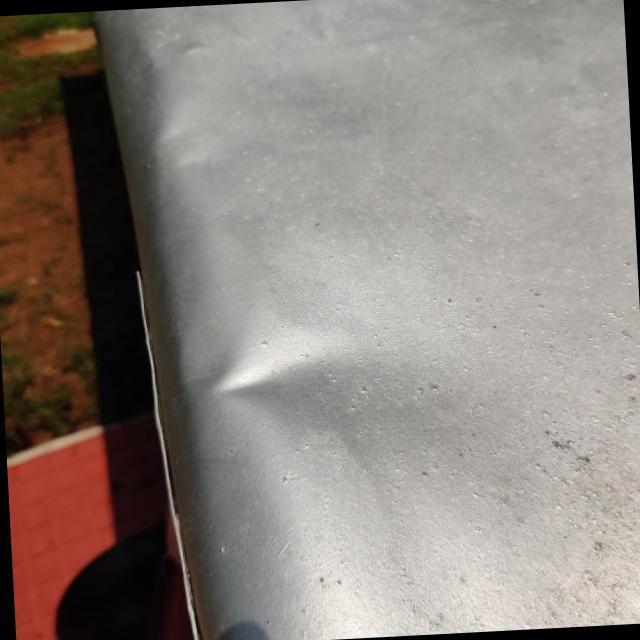dent: (182, 324, 358, 458)
